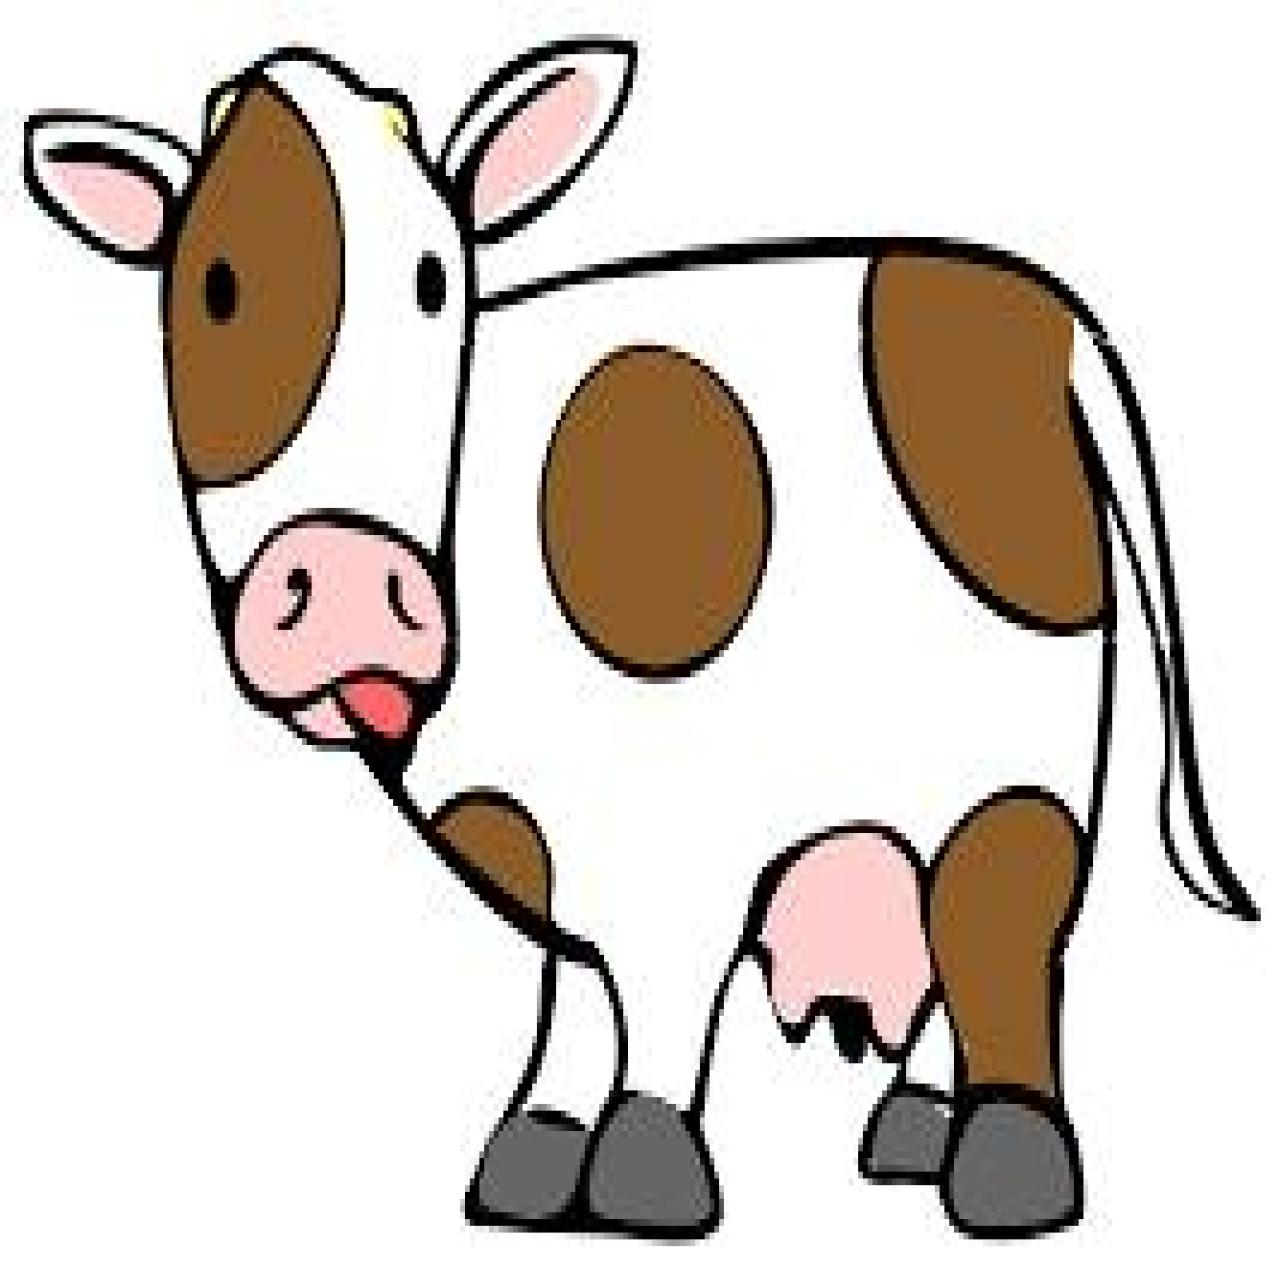cow: (23, 20, 1261, 1239)
